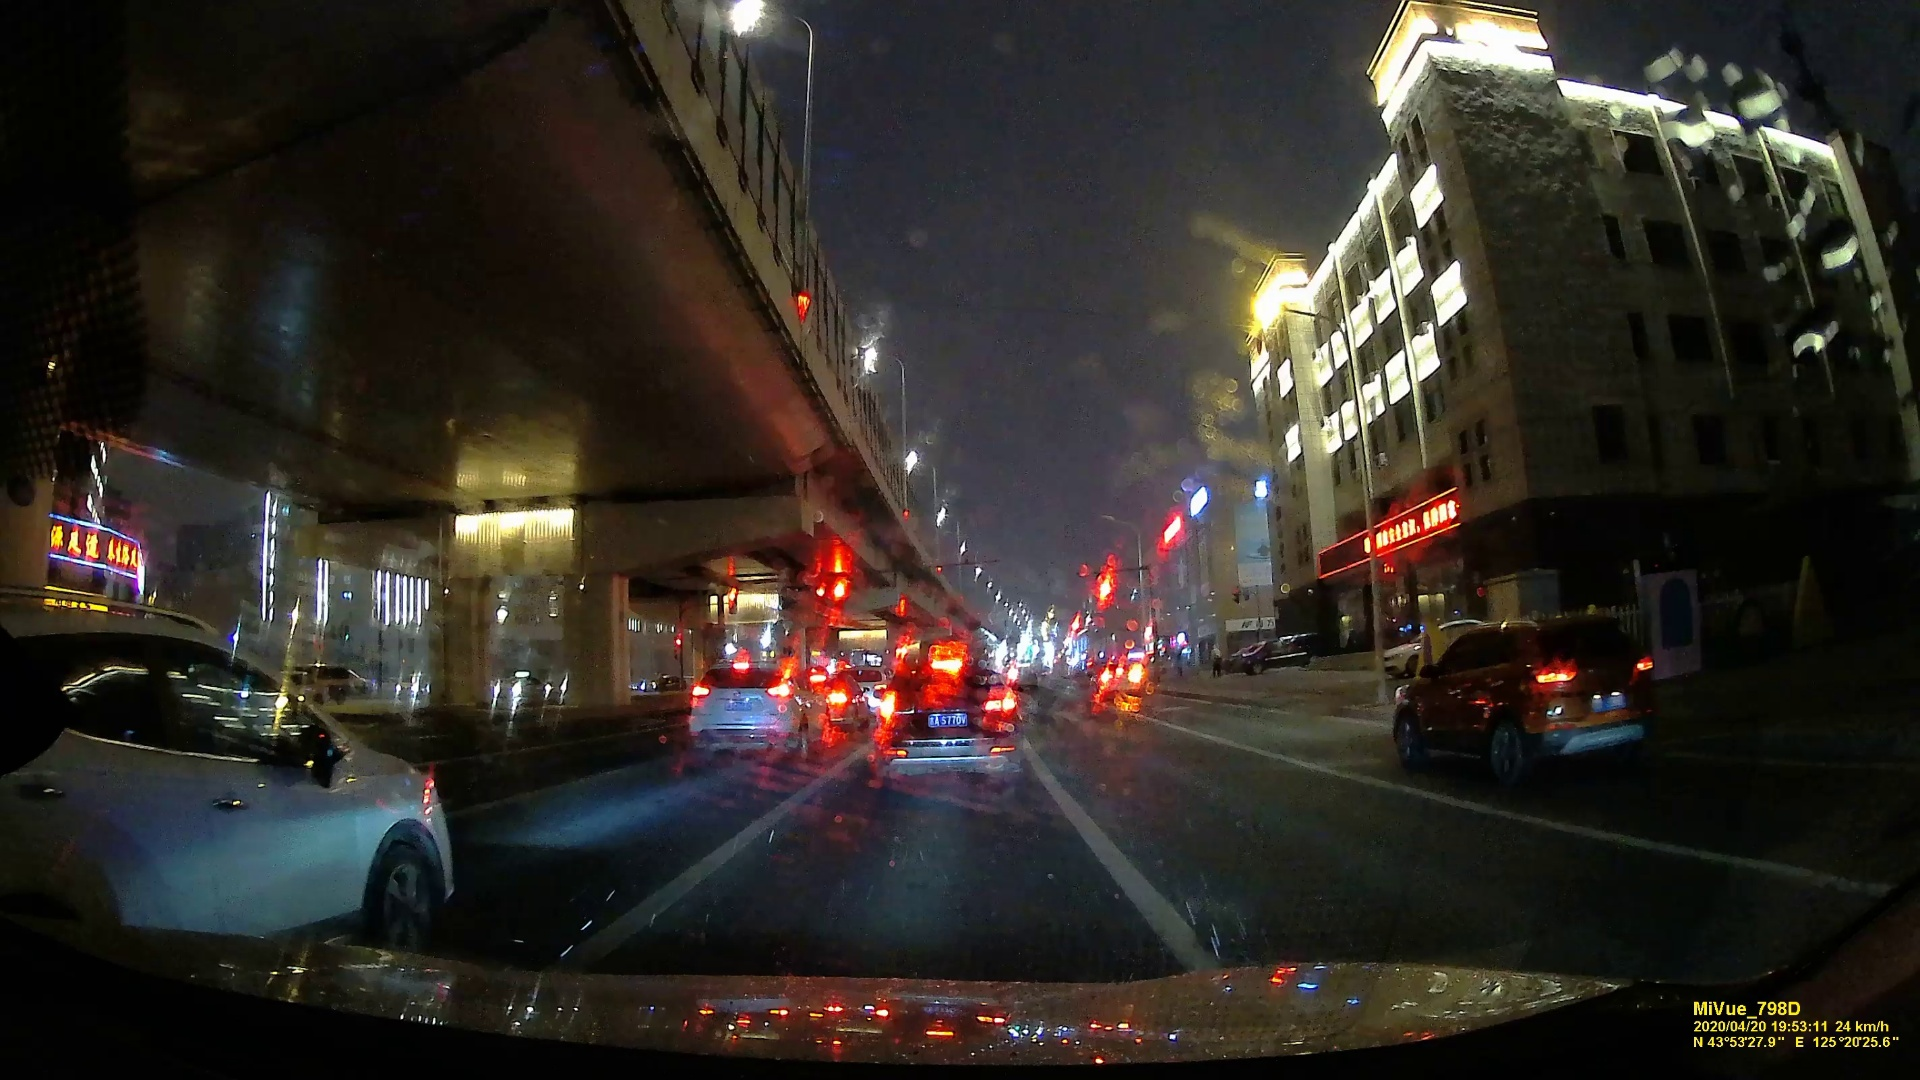vehicle: (3, 612, 448, 953), (1395, 608, 1663, 789), (874, 650, 1022, 789), (678, 666, 828, 752)
